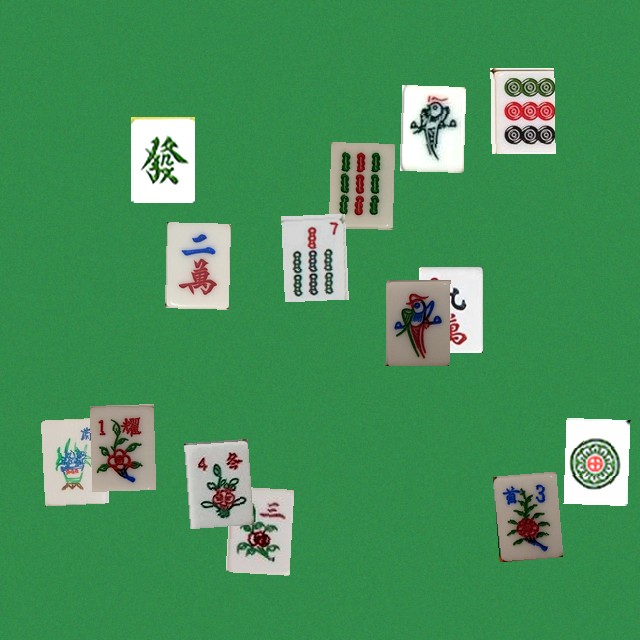tile: (563, 417, 627, 503), (492, 471, 556, 557), (130, 116, 194, 202), (164, 222, 228, 308), (225, 486, 289, 572), (40, 417, 104, 503), (418, 266, 482, 352), (183, 438, 247, 524), (328, 142, 392, 228), (490, 67, 554, 153), (89, 404, 153, 490), (399, 84, 463, 170), (385, 279, 449, 365), (281, 213, 345, 299)
